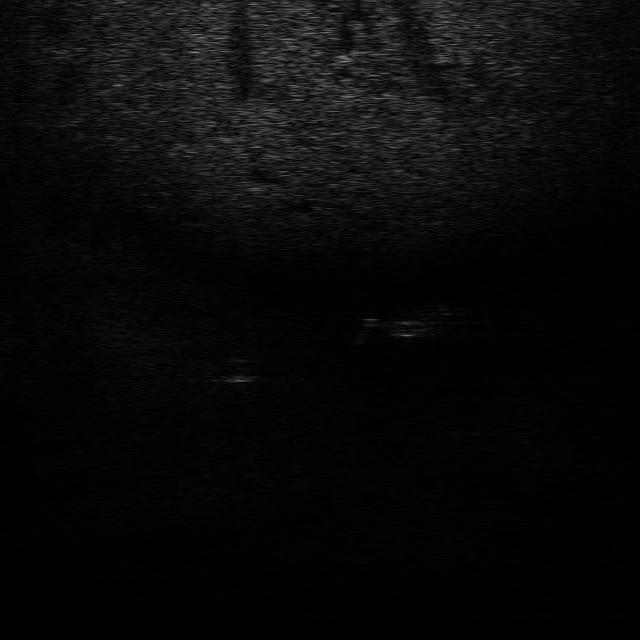ball: (218, 355, 262, 384)
human body: (355, 303, 460, 345)
